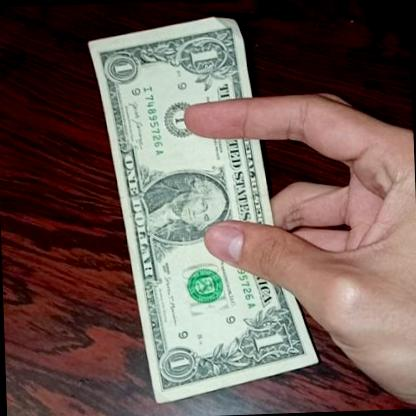dollar_front: (92, 7, 318, 406)
